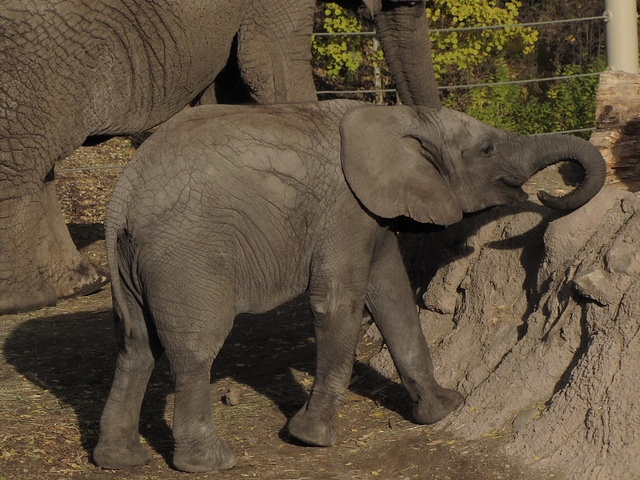elephant: (85, 97, 607, 474), (1, 0, 443, 315)
